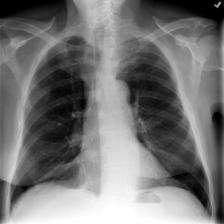normal: (6, 28, 215, 224)
